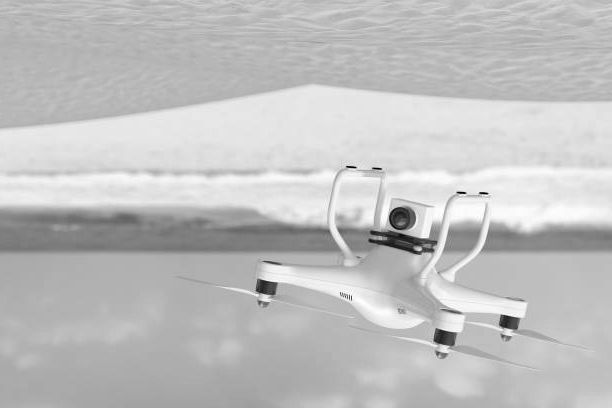Drone: (170, 161, 596, 370)
